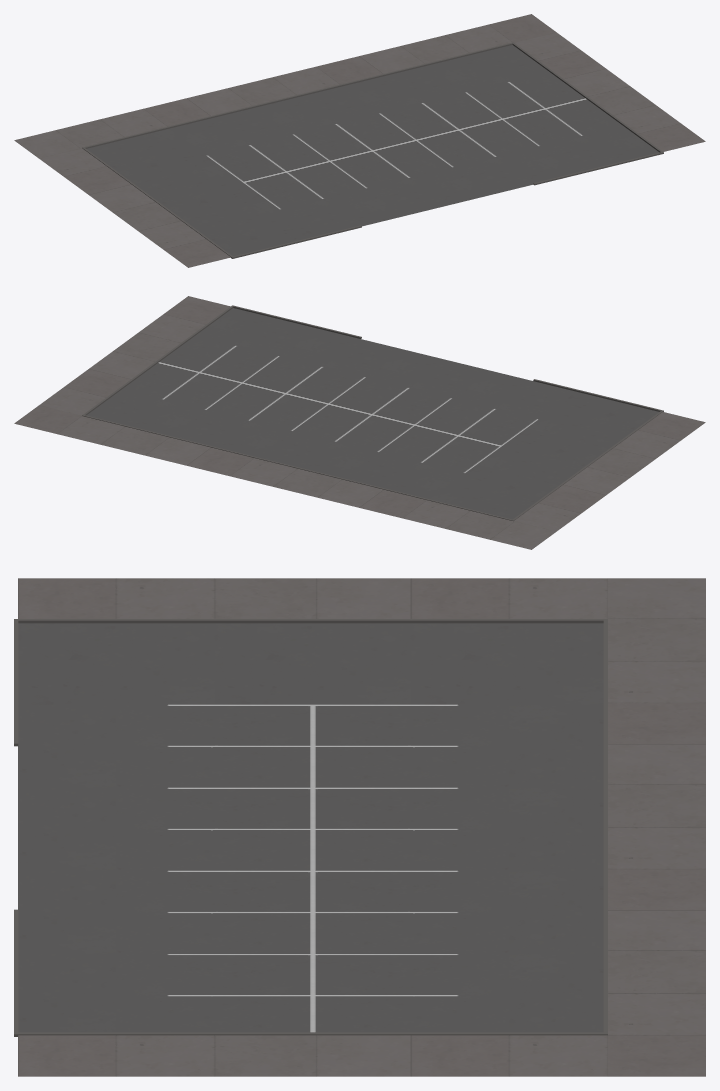
The model's file is SM_Floor_Parking_03.fbx.
3 renders of one model, top to bottom at view 1: azimuth 30°, elevation 25°; view 2: azimuth 150°, elevation 25°; view 3: azimuth 270°, elevation 25°, orthographic. The views are drawn at different scales.
Visible parts, largest first — view 1: SM_Floor_Parking_03; view 2: SM_Floor_Parking_03; view 3: SM_Floor_Parking_03.
Boxes of the visible parts, x1,y1,x2,y2 form: SM_Floor_Parking_03: (14,14,705,267); SM_Floor_Parking_03: (14,296,705,549); SM_Floor_Parking_03: (14,578,705,1076).
Size of the model in its own units: 30 by 0.075 by 17.61.
